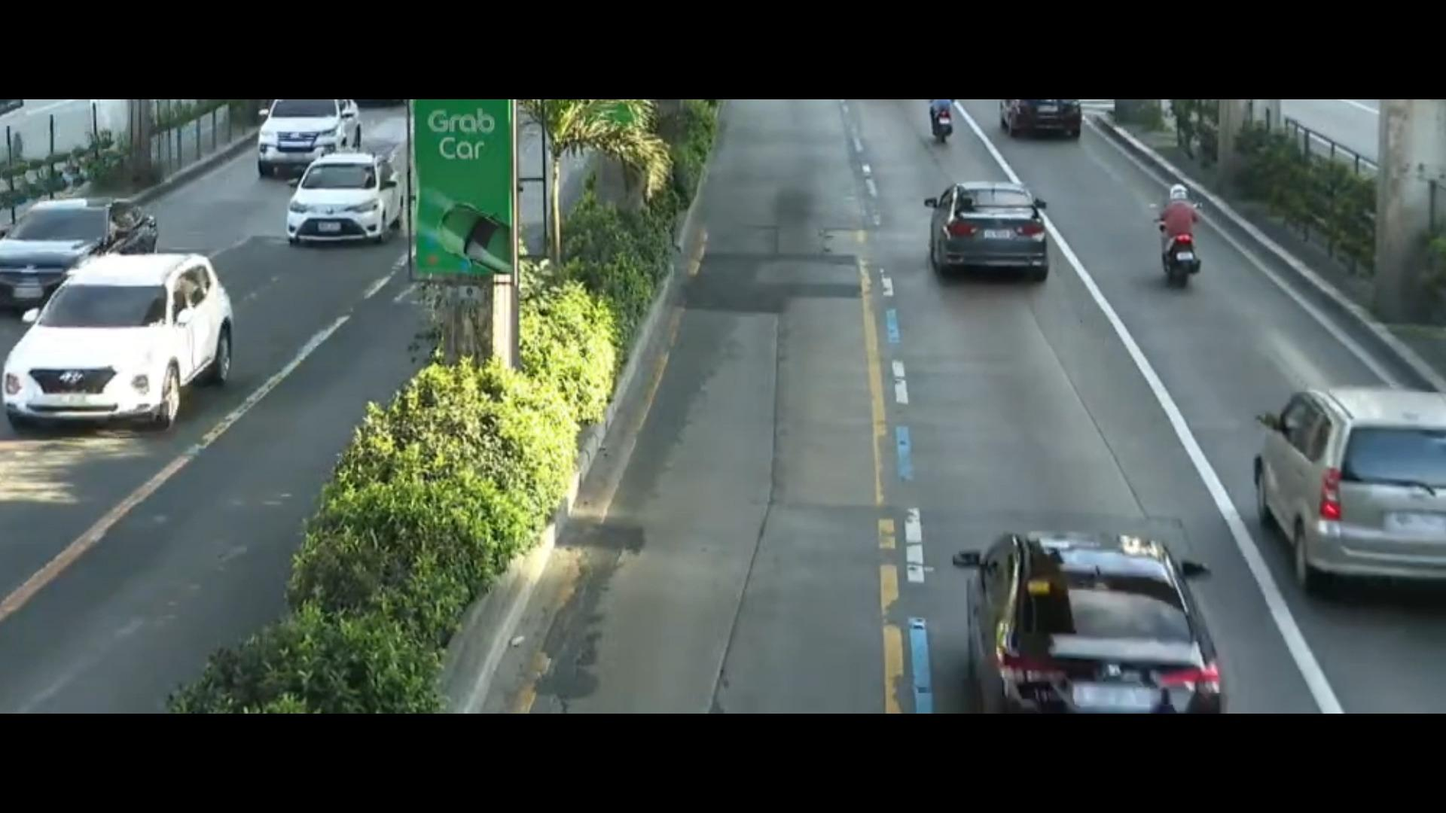Motorcycle: (1126, 176, 1218, 296), (915, 93, 967, 155)
SUV: (1226, 354, 1446, 609), (0, 241, 277, 442), (250, 93, 367, 183)
Sedan: (937, 490, 1234, 715), (0, 174, 194, 304), (913, 171, 1070, 306), (272, 144, 412, 262)
